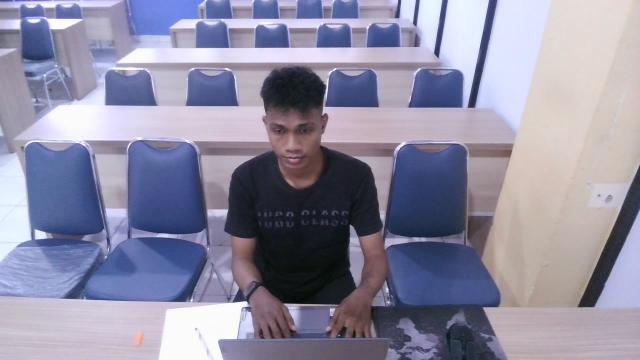Looking_Around: (234, 62, 389, 253)
